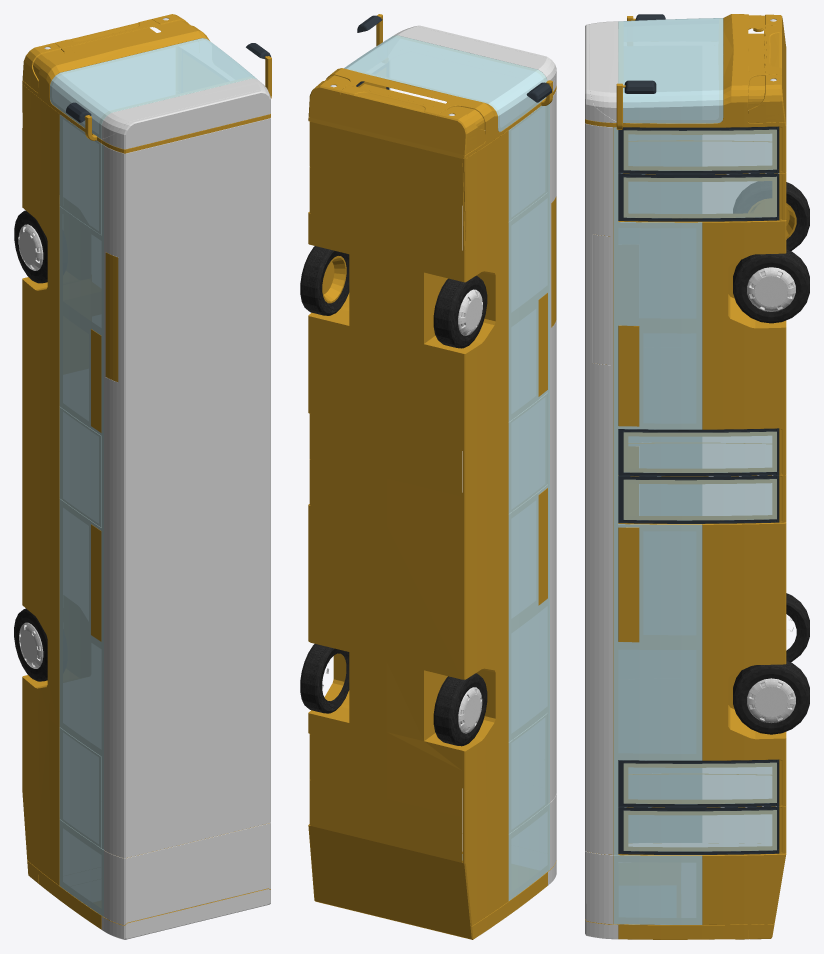
File: gongjiaoche.glb
3 views of the same model, side by side, from view 1: azimuth 30°, elevation 25°; view 2: azimuth 150°, elevation 25°; view 3: azimuth 270°, elevation 25° (orthographic). The views are drawn at different scales.
Visible parts, largest first — view 1: Archmodels55_13_tire; view 2: Archmodels55_13_tire; view 3: Archmodels55_13_tire.
Boxes of the visible parts, box(x1,y1,x2,y2) form: Archmodels55_13_tire: box(14, 14, 271, 939); Archmodels55_13_tire: box(300, 14, 556, 939); Archmodels55_13_tire: box(585, 14, 809, 939).
Size of the model in its own units: 2.49 by 10.6 by 2.51.
Materials: 11 (10 with a texture image).
